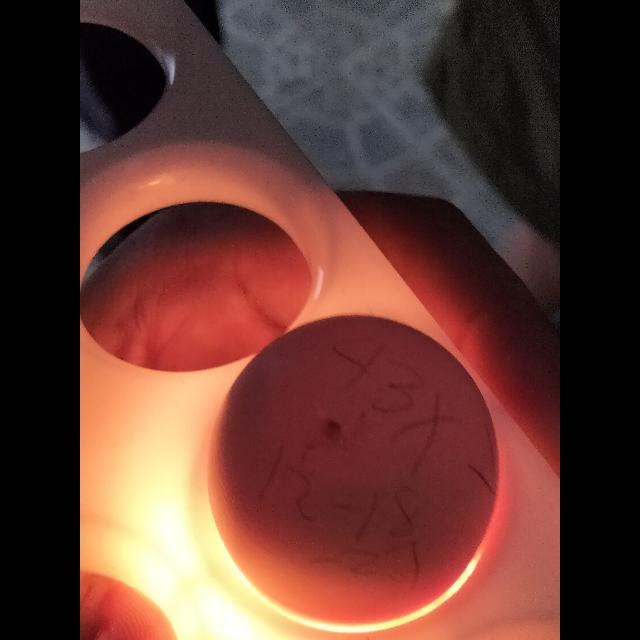Fertile: (228, 320, 497, 612)
